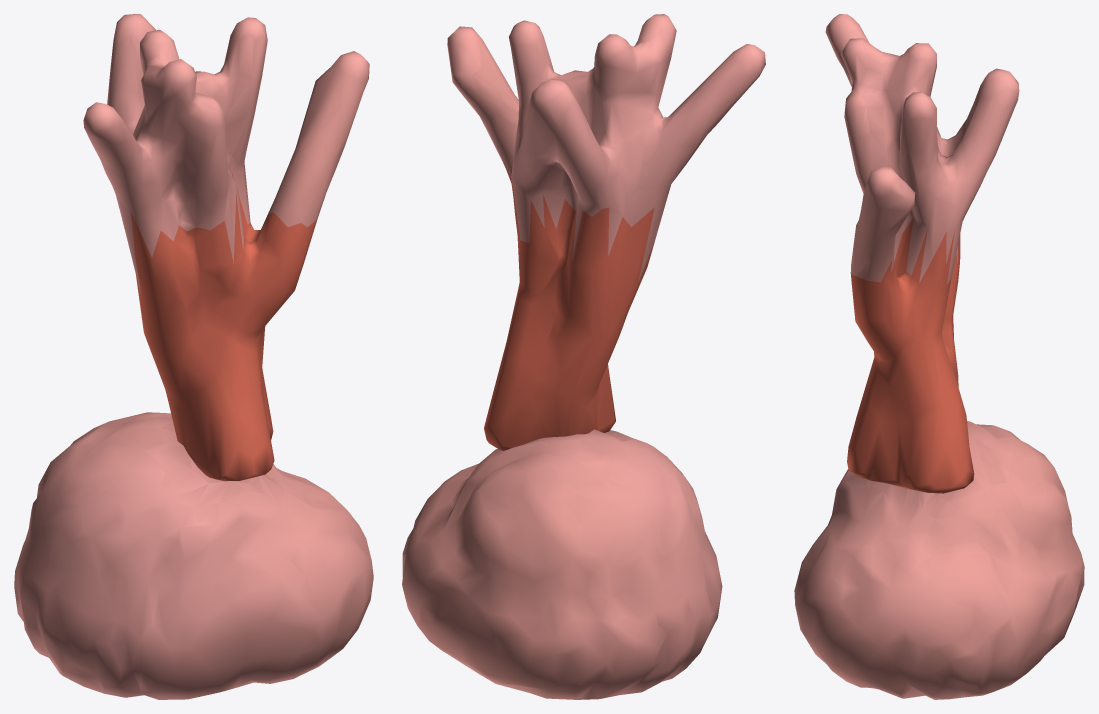
The model's file is shore_coral_pillar_lod1.glb.
The picture shows the model from 3 angles, left to right: view 1: azimuth 30°, elevation 25°; view 2: azimuth 150°, elevation 25°; view 3: azimuth 270°, elevation 25°; orthographic projection. The views are drawn at different scales.
Parts seen in each view (by area): view 1: shore_coral_pillar.001; view 2: shore_coral_pillar.001; view 3: shore_coral_pillar.001.
Boxes of the visible parts, x1,y1,x2,y2 form: shore_coral_pillar.001: (14,14,373,699); shore_coral_pillar.001: (402,14,765,699); shore_coral_pillar.001: (794,14,1084,699).
Bounding box in the file's own units: 3.12 × 6.11 × 2.75.
